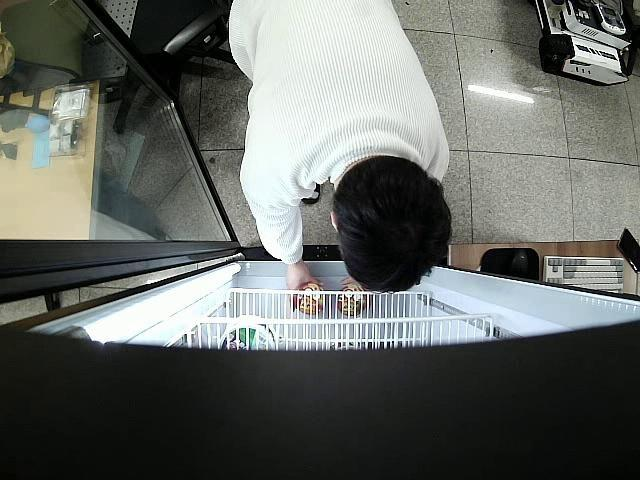06_nuguri_S: (296, 284, 328, 316)
